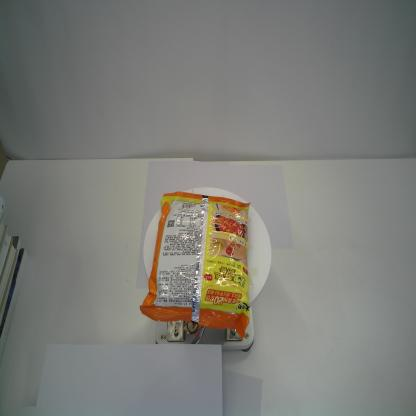Instant Noodles: (139, 191, 250, 341)
